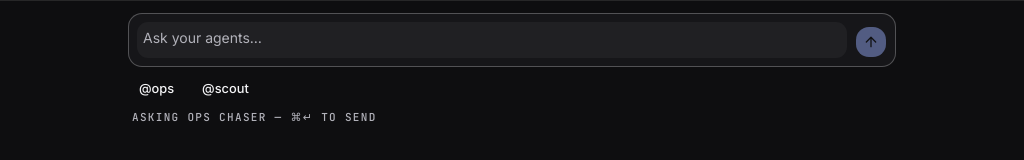
it: Composer — addressing an agent by @handle › a typed handle overrides the sticky persona in the helper line
The width and height of the screenshot is (1024, 160).
Type "@scout hi" into the text box named "your question" at (492, 40), box [137,22,847,58]
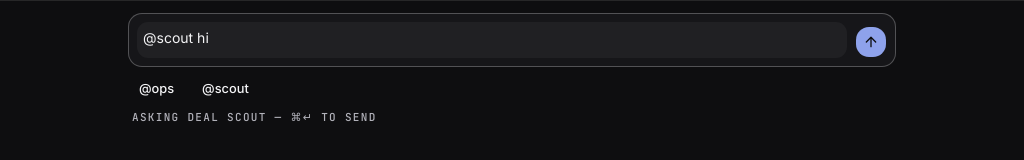
Now the text "Asking Deal Scout — ⌘↵ to send" is shown, box [132,110,377,124]
